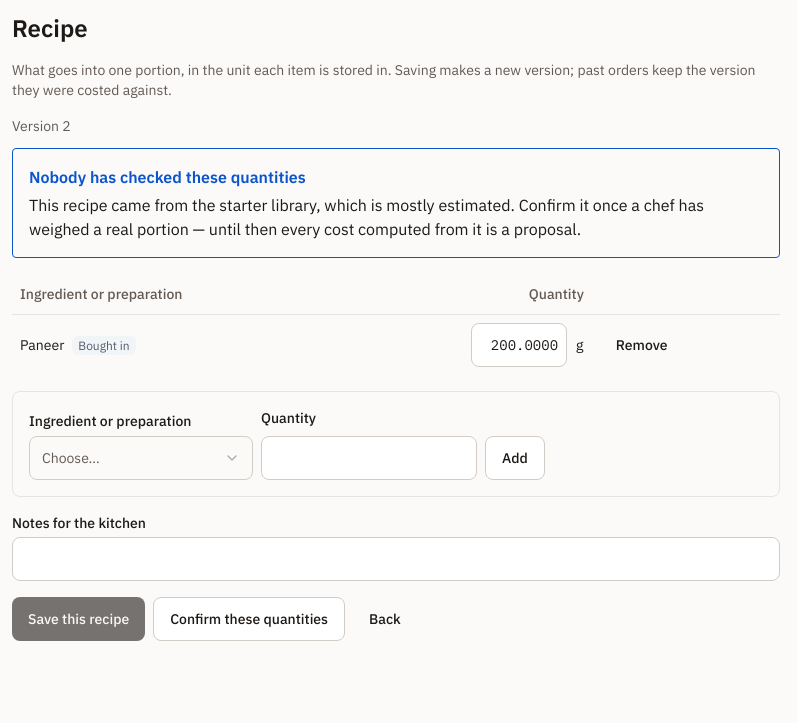
Test case: saving › refuses a line whose quantity was edited down to nothing
This screenshot has width=797, height=723.
Clear the field named "Quantity of Paneer" at (519, 344), box x1=471 y1=322 x2=567 y2=366
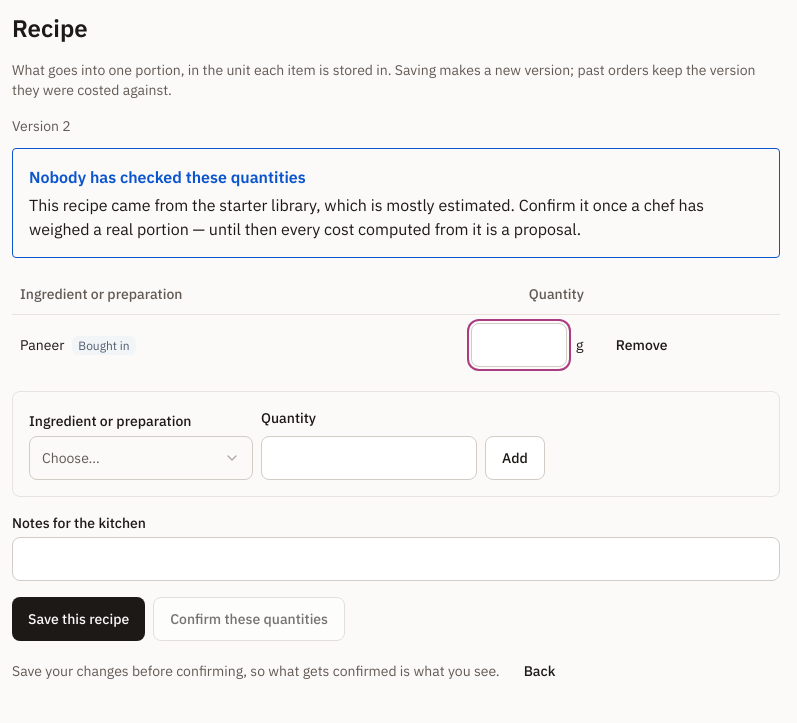
Click the button "Save this recipe" at (79, 618), box x1=12 y1=596 x2=145 y2=640
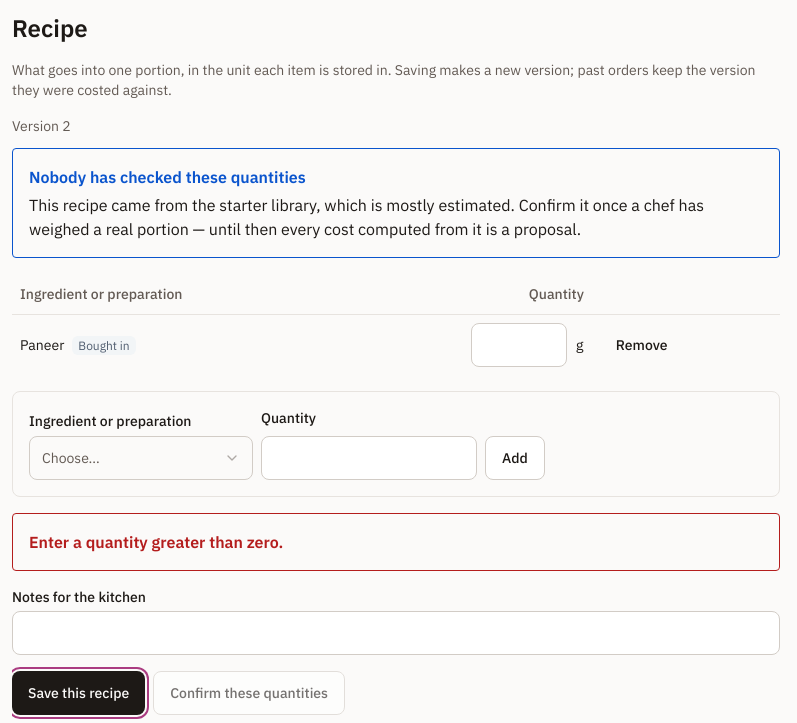
Check: the text "Enter a quantity greater than zero." is shown, box x1=29 y1=532 x2=283 y2=552
